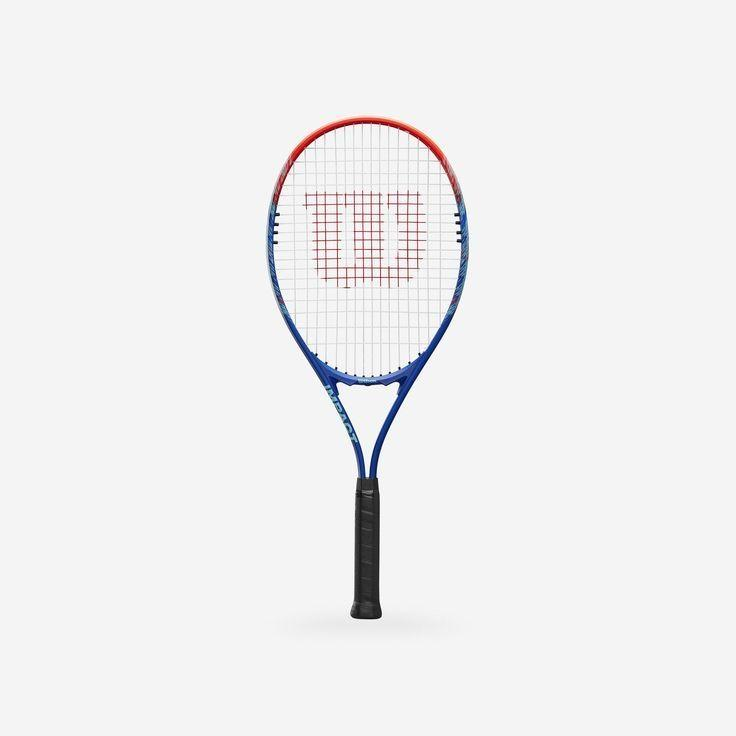Tennis-Racket: (271, 119, 462, 614)
